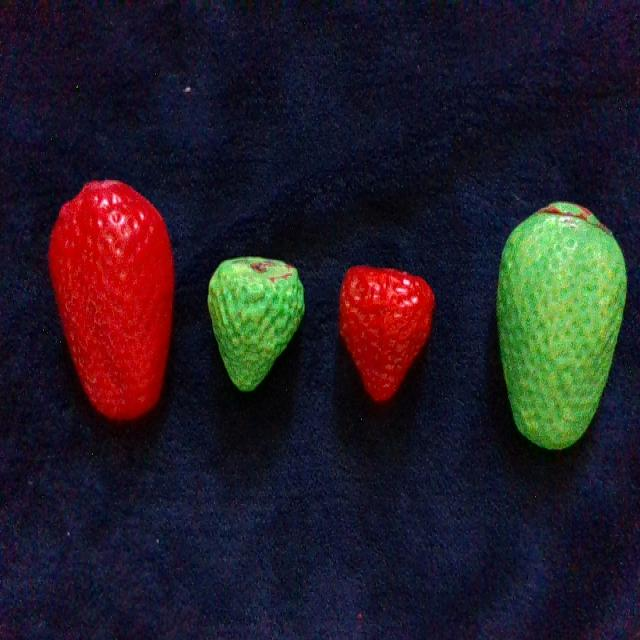chica_roja: (340, 267, 434, 400)
grande_roja: (49, 181, 173, 419)
verde: (497, 203, 626, 448), (208, 260, 304, 389)
